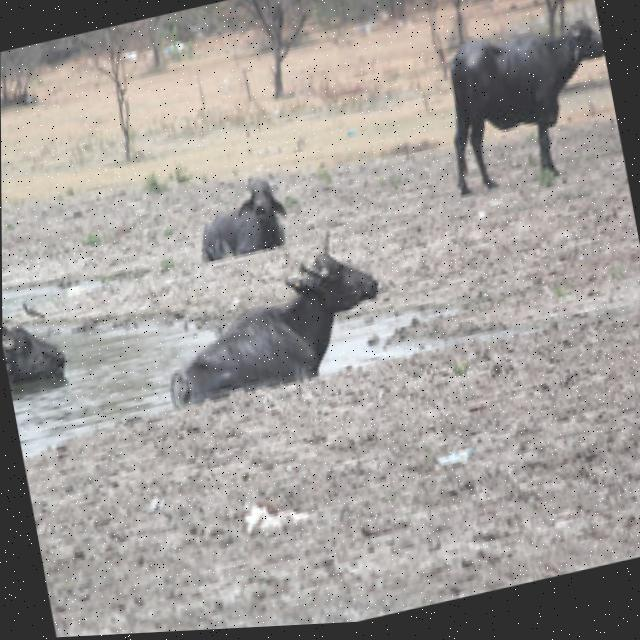Buffalo: (146, 231, 395, 408), (426, 0, 624, 200), (189, 166, 300, 263)
